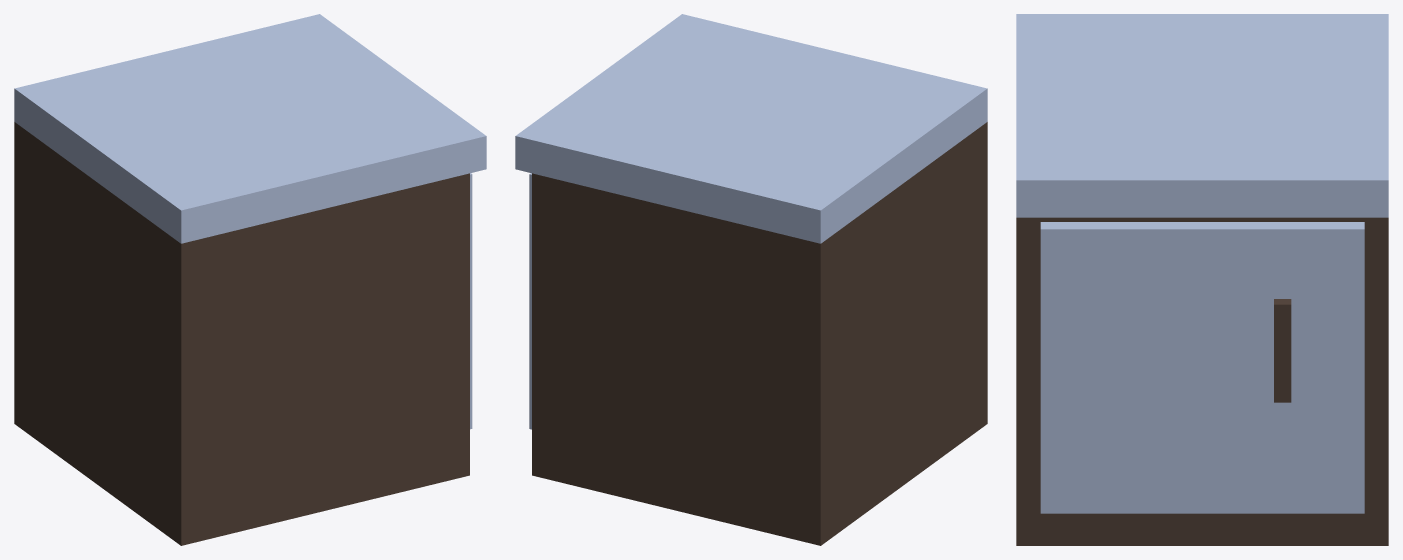
The model's file is CountertopCabinet.fbx.
The picture shows the model from 3 angles, left to right: view 1: azimuth 30°, elevation 25°; view 2: azimuth 150°, elevation 25°; view 3: azimuth 270°, elevation 25°; orthographic projection. The views are drawn at different scales.
Parts seen in each view (by area): view 1: CountertopCabinetBase, CountertopCabinetDoor; view 2: CountertopCabinetBase, CountertopCabinetDoor; view 3: CountertopCabinetBase, CountertopCabinetDoor.
Boxes of the visible parts, x1,y1,x2,y2 form: CountertopCabinetBase: [14, 14, 486, 545]; CountertopCabinetDoor: [470, 173, 472, 429]; CountertopCabinetBase: [515, 14, 987, 545]; CountertopCabinetDoor: [529, 173, 531, 429]; CountertopCabinetBase: [1016, 14, 1388, 545]; CountertopCabinetDoor: [1040, 222, 1364, 513].
Size of the model in its own units: 163 by 167 by 150.
